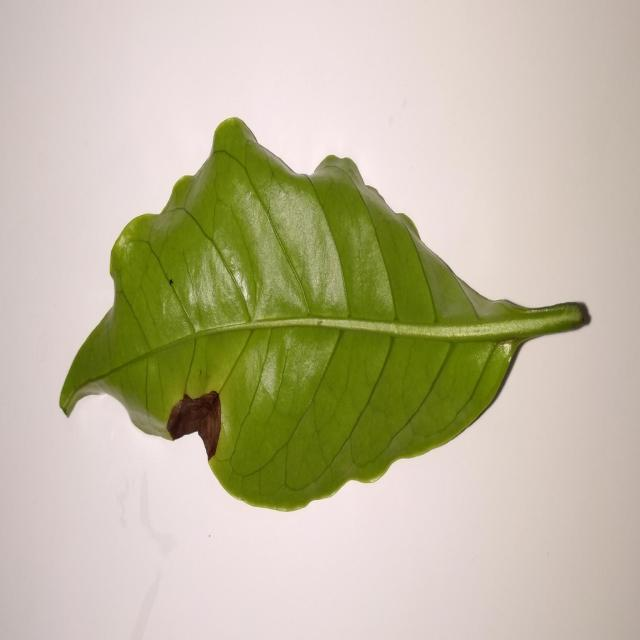Enfermedad-Antracnosis: (58, 118, 592, 515)
